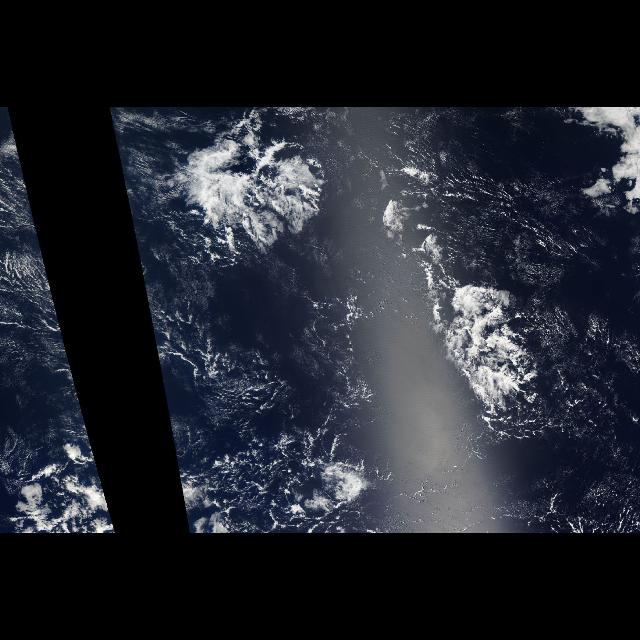Gravel: (176, 411, 344, 529)
Sugar: (136, 247, 284, 405), (5, 247, 83, 405)
